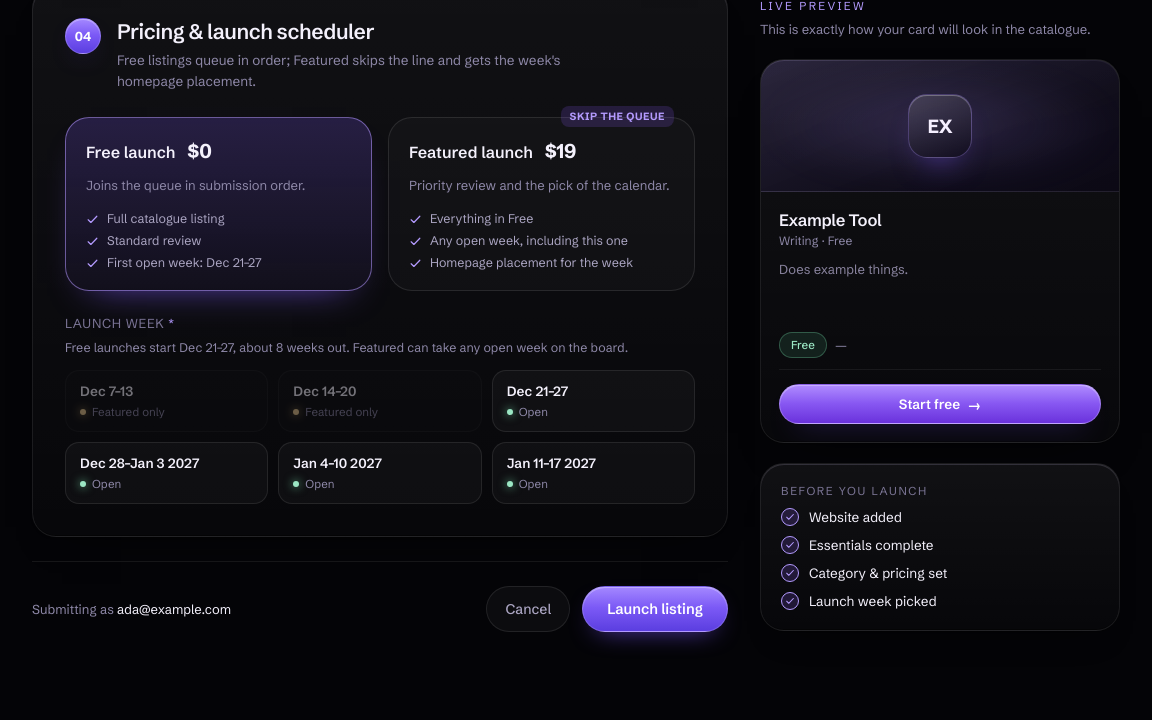
SubmitPage with accounts › signed in: submits directly and says who is submitting
This screenshot has width=1152, height=720.
(page scrolled)
Check: the text "ada@example.com" is shown, box [117,601,231,617]
Click the button "Launch listing" at (655, 609), box [582,586,728,632]
(page scrolled)
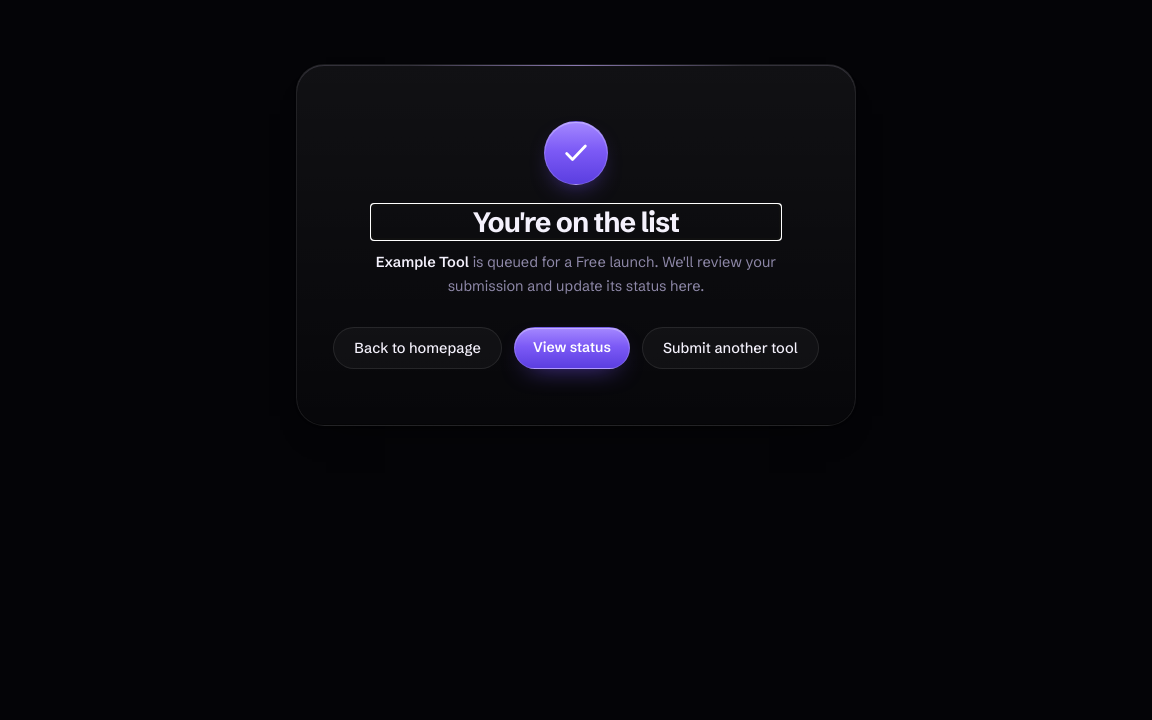
Check: the heading "You're on the list" is shown, box [473,205,679,239]
Check: the link "View status" is shown, box [514,327,630,369]
Check: the text "update its status here" is shown, box [448,253,776,295]
